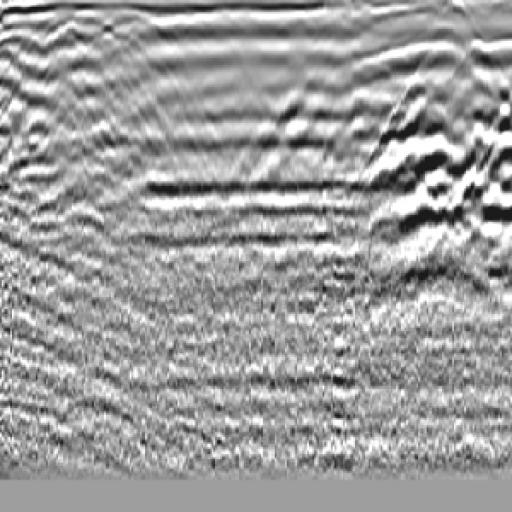non-metallic: (365, 28, 512, 294)
